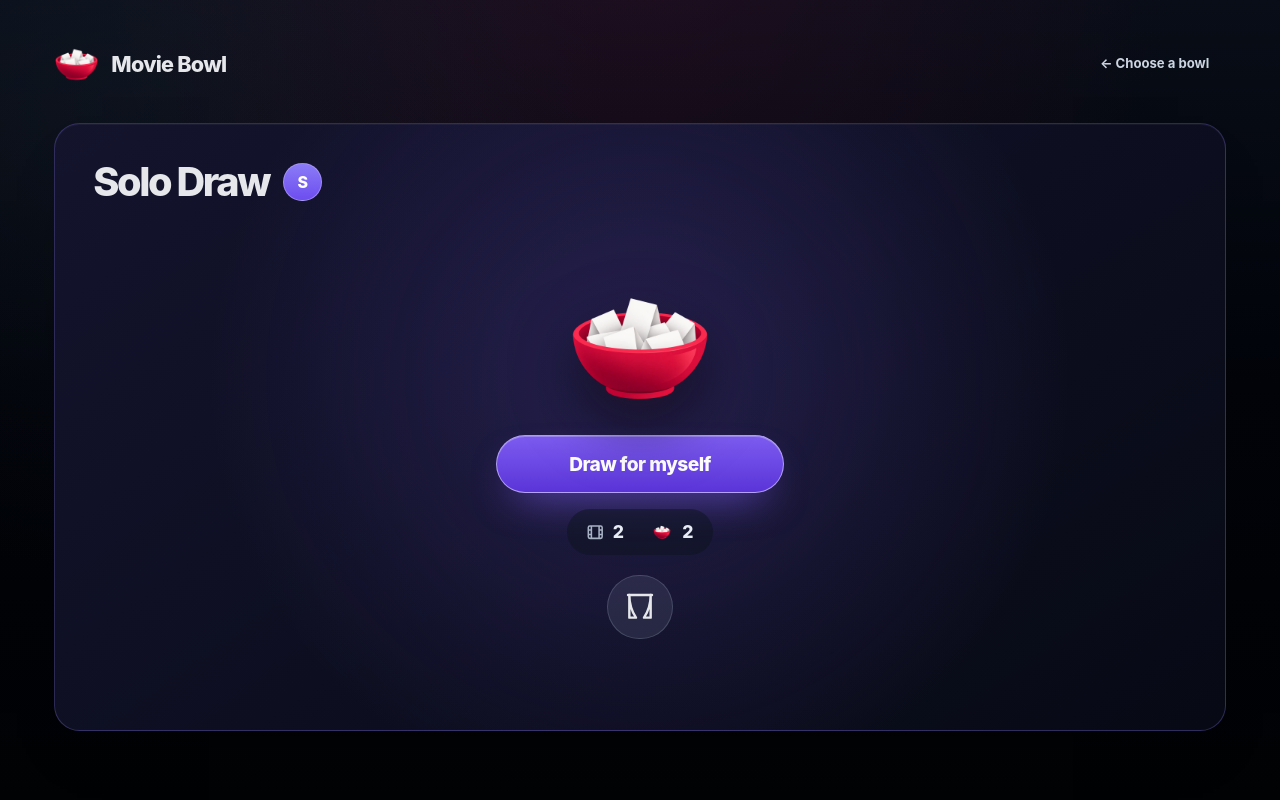
Scenario: TV solo draw › signs the slip with the viewer's own name
The image size is (1280, 800).
Click the button "Draw for myself". click: (640,384)
box: [496,275,784,493]
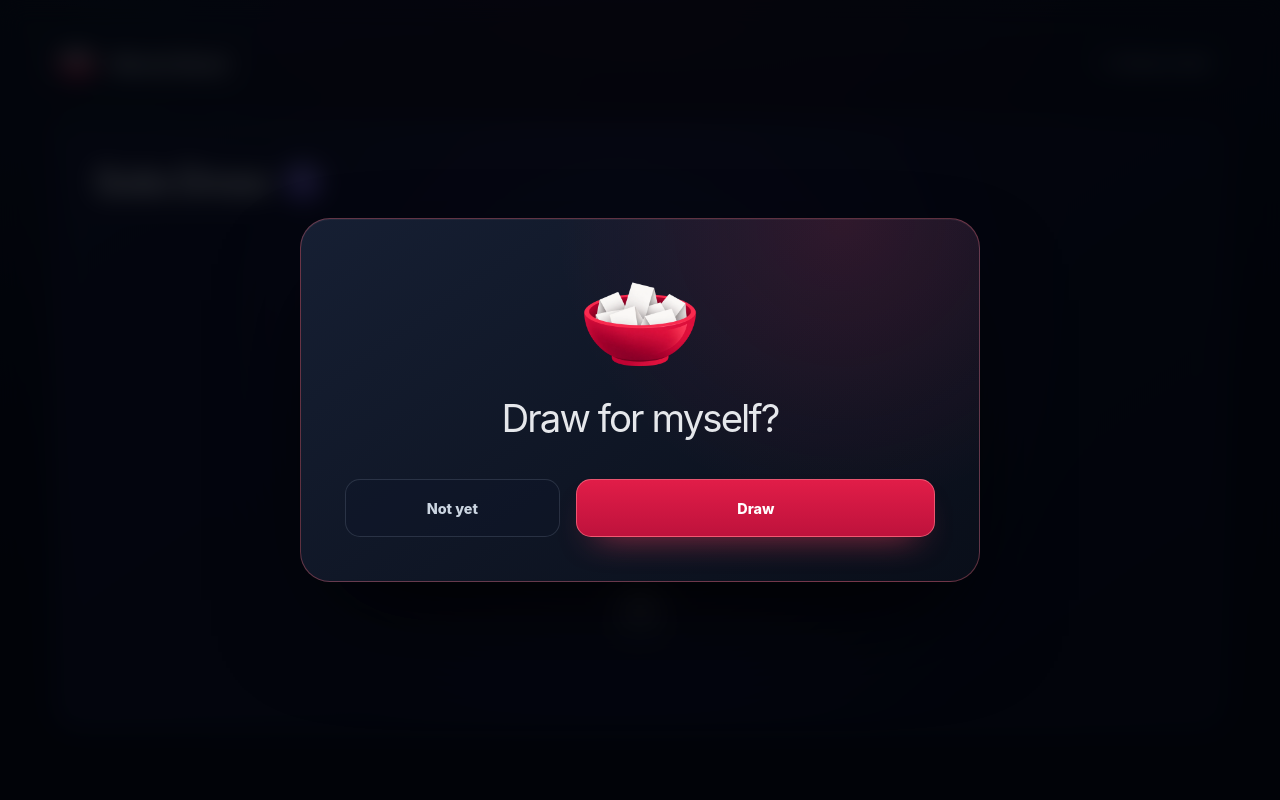
Click the button "Draw". click: (756,508)
box: [576,479,936,537]
Wait 1800 ms
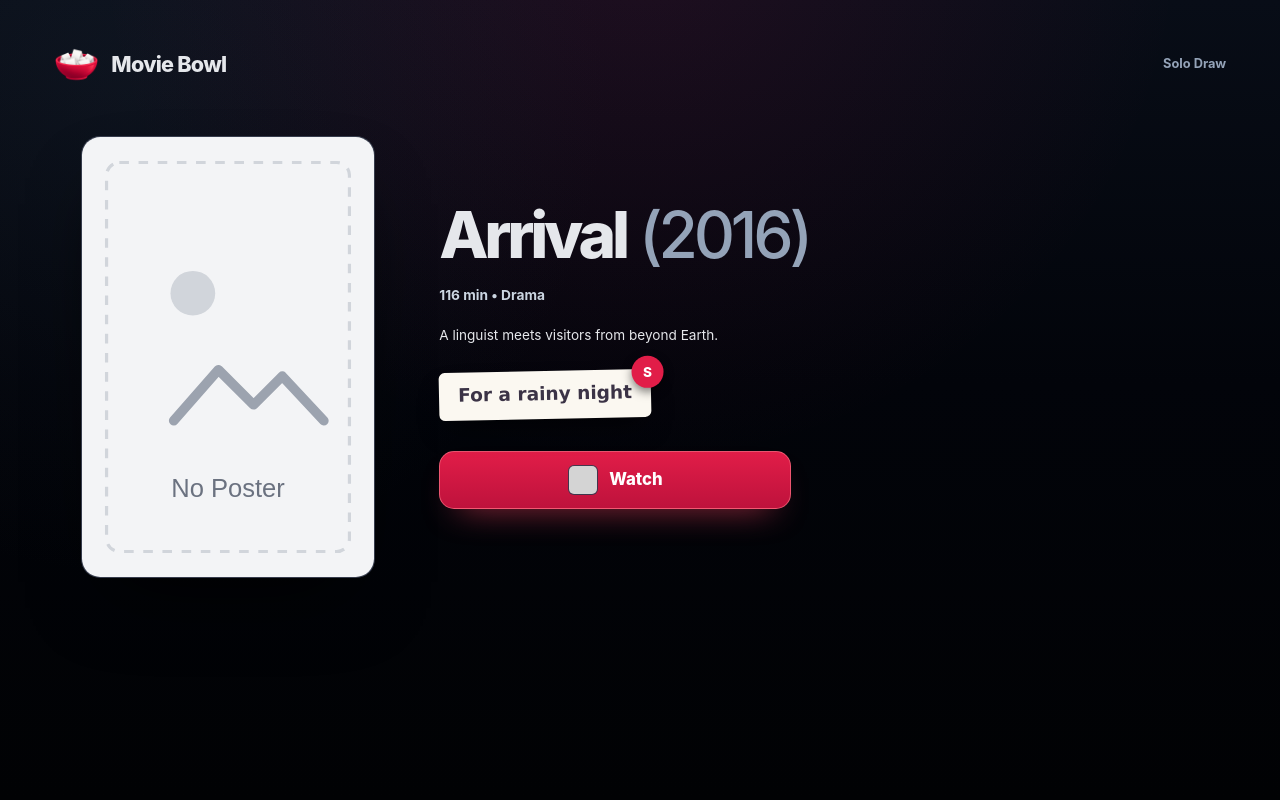
expect the text "For a rainy night" shows "S": met, box [439,369,652,421]
